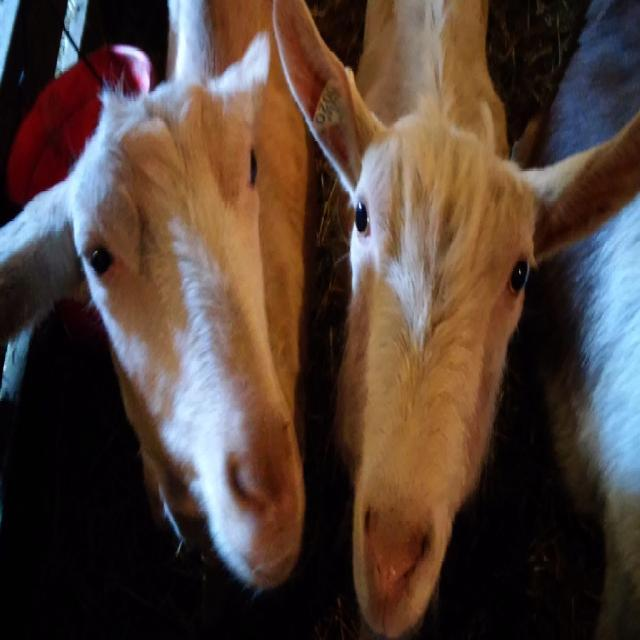Goat: (271, 0, 639, 637), (0, 0, 327, 593)
